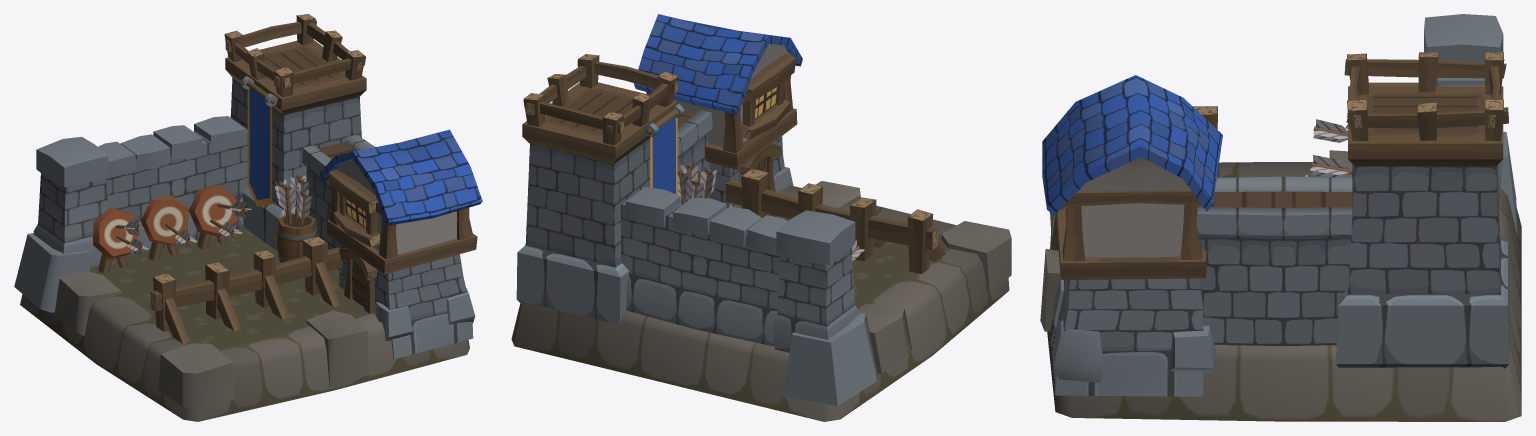
File: Archery.FBX
The picture shows the model from 3 angles, left to right: view 1: azimuth 30°, elevation 25°; view 2: azimuth 150°, elevation 25°; view 3: azimuth 270°, elevation 25°; orthographic projection. The views are drawn at different scales.
Visible parts, largest first — view 1: Archery; view 2: Archery; view 3: Archery.
Part boxes in pixels (box(x1,y1,x2,y2)): Archery: box(14, 14, 482, 421); Archery: box(511, 14, 1011, 421); Archery: box(1040, 14, 1521, 421).
Size of the model in its own units: 674 by 470 by 666.
